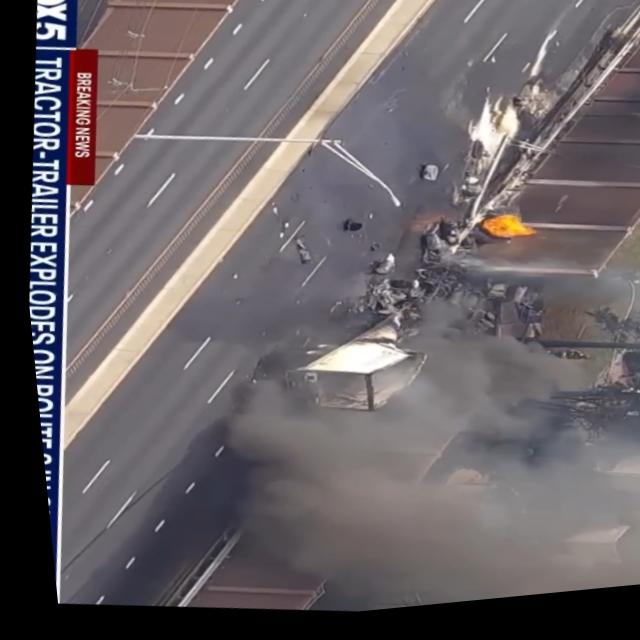Fire: (467, 211, 539, 258)
